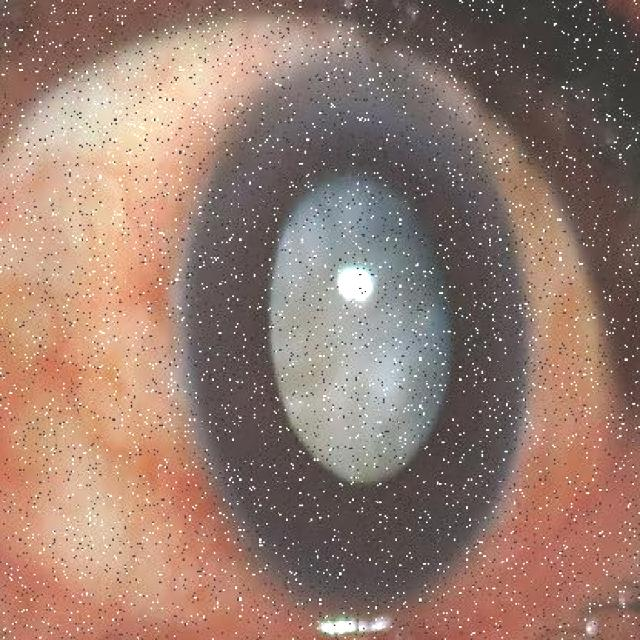Cataract: (188, 49, 531, 619)
